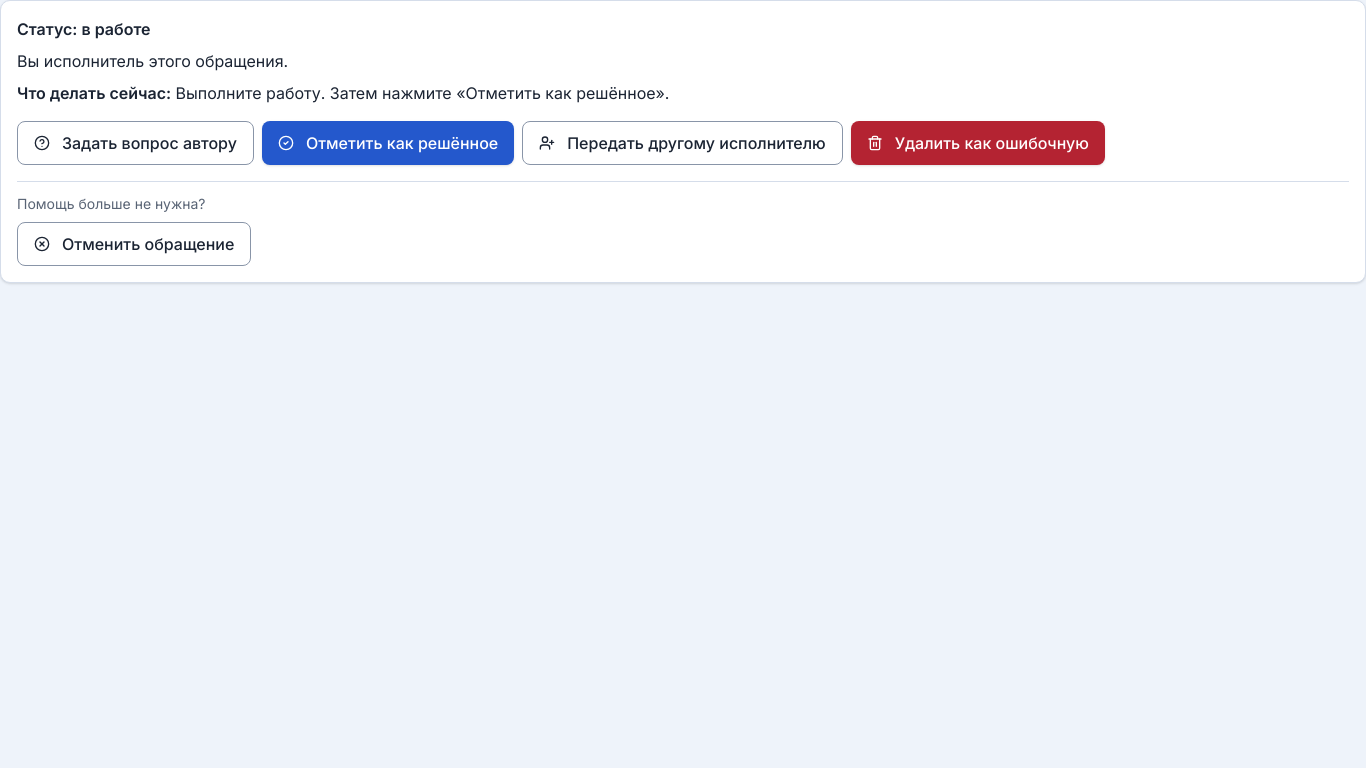
explains when no different eligible executor exists without widening confidential audience
Click the button "Передать другому исполнителю" at (682, 143), box [522,121,843,165]
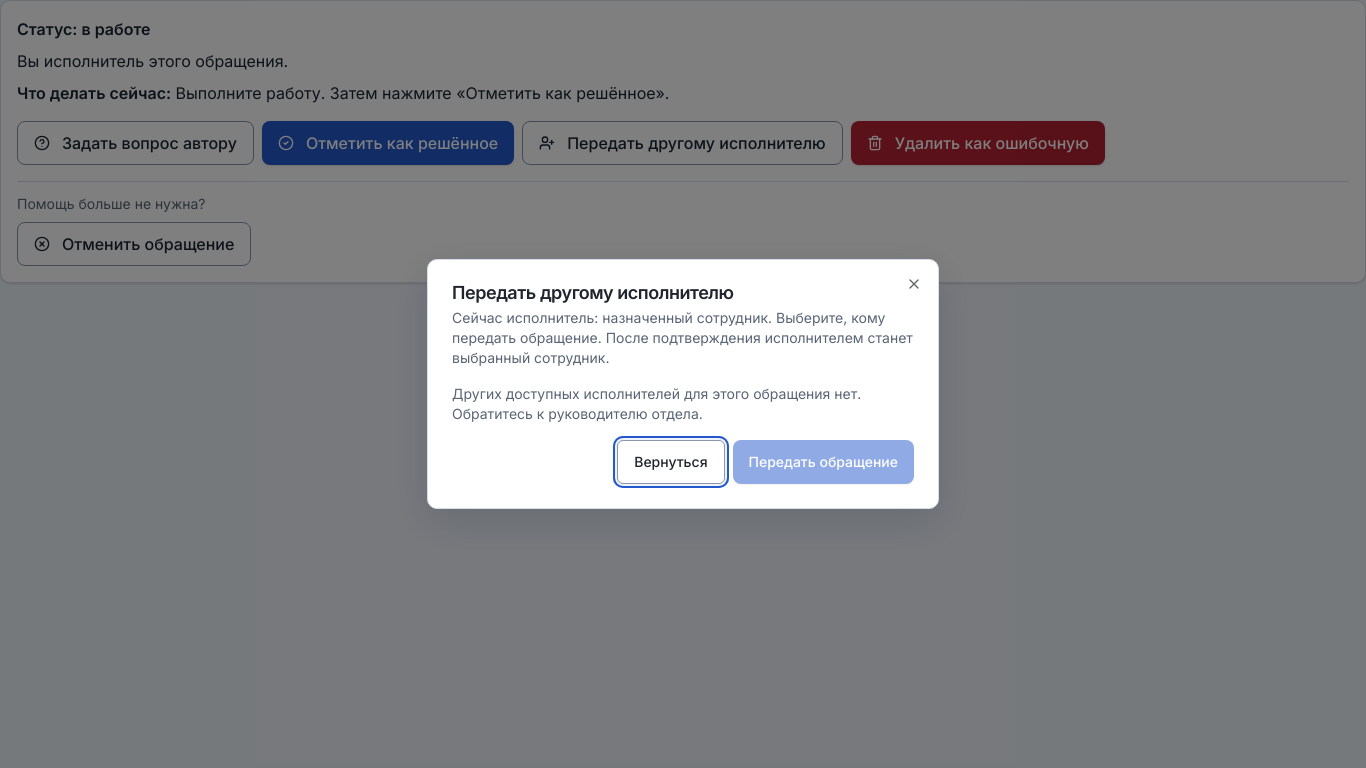
Check: the text "Других доступных исполнителей для этого обращения нет" is shown, box [452,385,861,422]
Check: the button "Передать обращение" is disabled, box [732,440,914,484]
